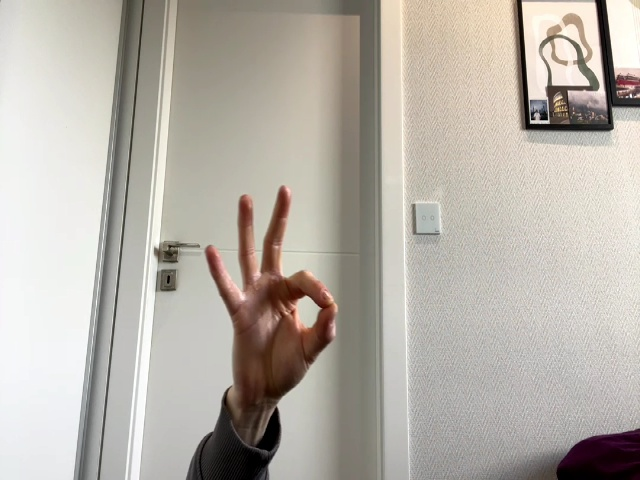O: (206, 186, 338, 401)
